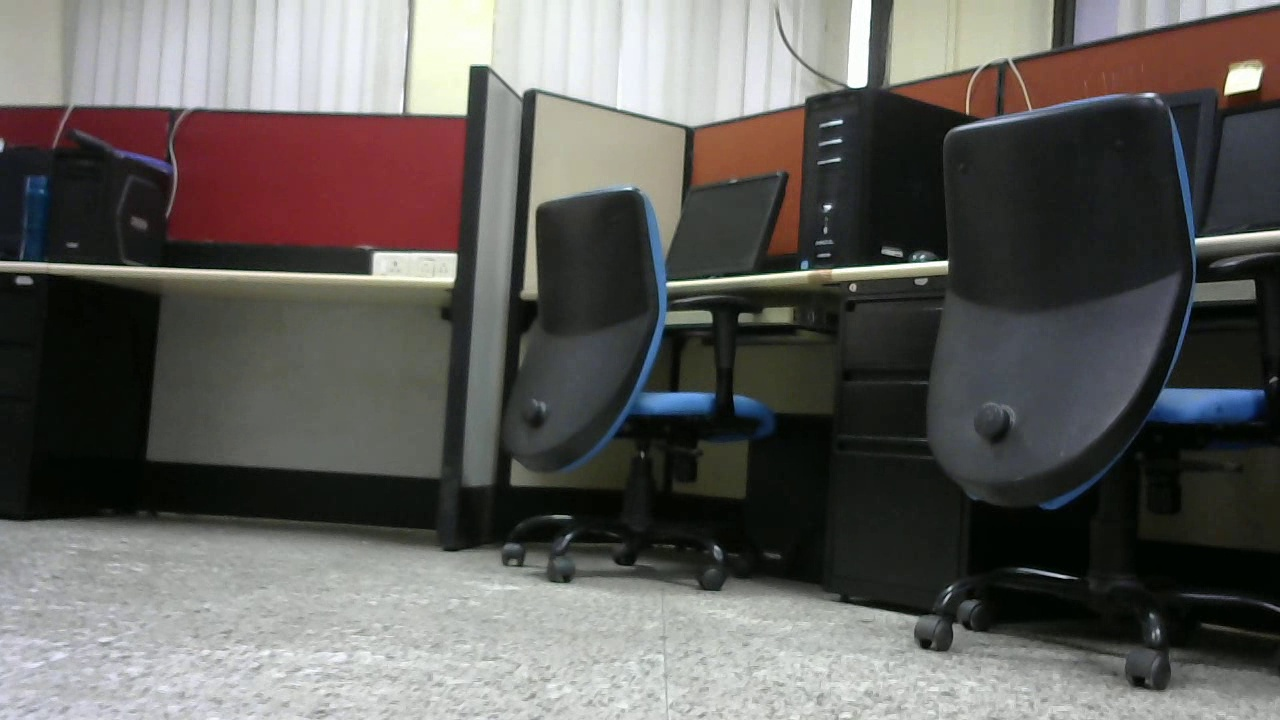chair: (915, 90, 1280, 691), (498, 191, 777, 595)
